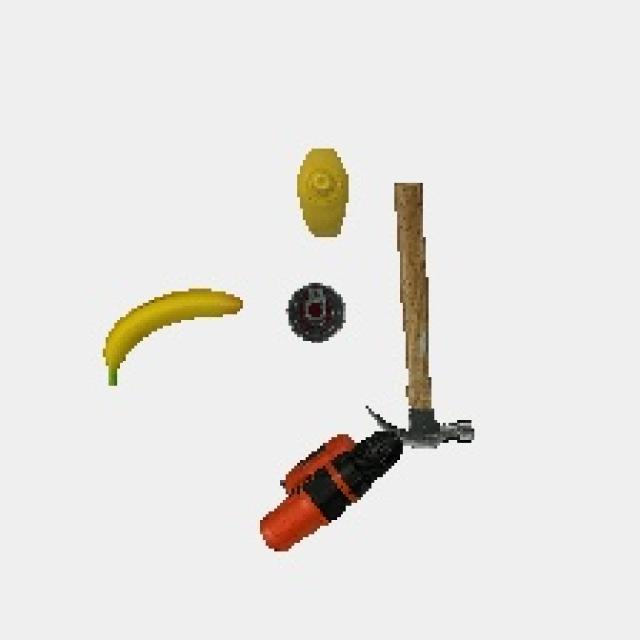Banana: (96, 284, 250, 393)
MustardBottle: (292, 141, 353, 247)
TomatoSoupCan: (280, 280, 351, 345)
